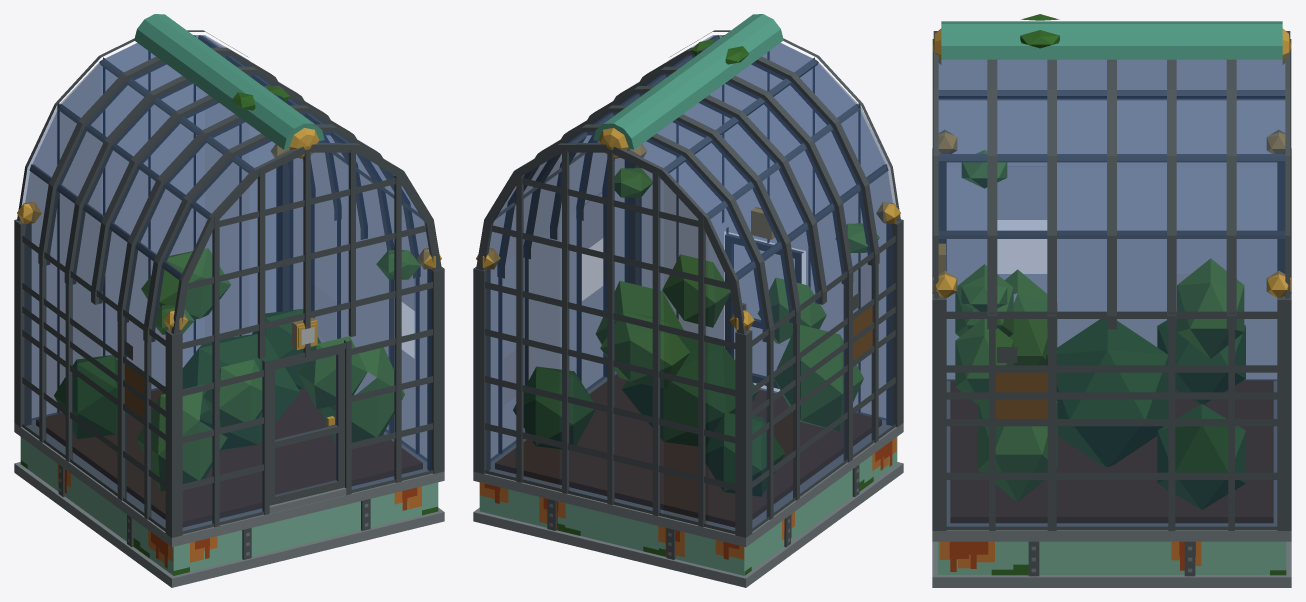
File: glass-conservatory-a938d5.glb
3 views of the same model, side by side, from view 1: azimuth 30°, elevation 25°; view 2: azimuth 150°, elevation 25°; view 3: azimuth 270°, elevation 25° (orthographic). The views are drawn at different scales.
Visible parts, largest first — view 1: shell, glazing, door-glazing, door-leaf; view 2: shell, glazing, door-glazing, door-leaf; view 3: shell, glazing.
Part boxes in pixels (<box>): shell: <box>14,14,444,587</box>; glazing: <box>19,35,432,530</box>; door-glazing: <box>275,355,336,494</box>; door-leaf: <box>269,349,344,505</box>; shell: <box>473,14,903,587</box>; glazing: <box>485,35,898,530</box>; door-glazing: <box>732,244,794,377</box>; door-leaf: <box>725,233,803,388</box>; shell: <box>932,14,1291,587</box>; glazing: <box>938,59,1285,526</box>.
Bounding box in the file's own units: 4 × 6 × 4.
